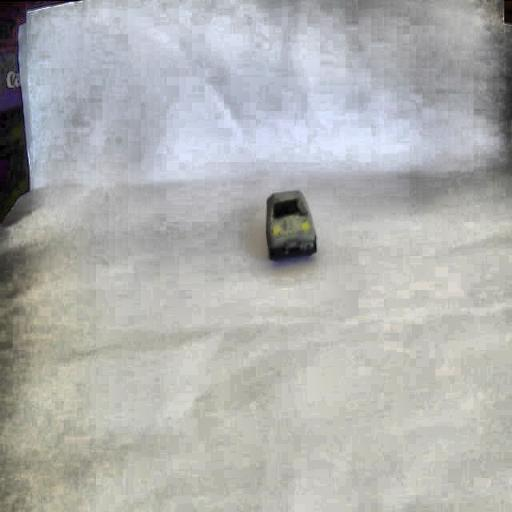normal_car: (264, 190, 318, 261)
